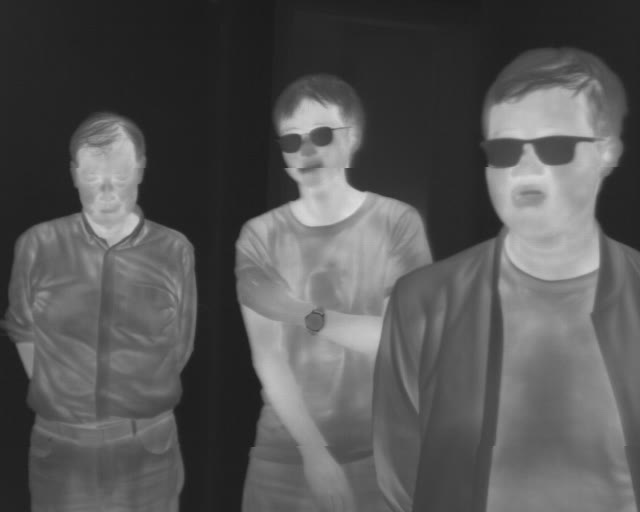face: (476, 44, 626, 242), (272, 70, 366, 190), (69, 112, 148, 226)
